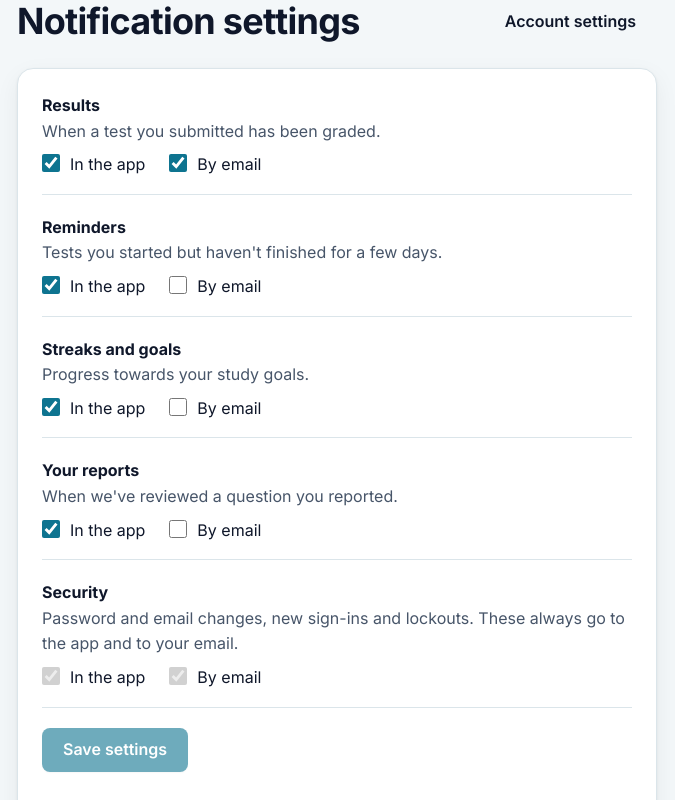
it: NotificationPreferencesForm › saves every category, keeping security on
Click the checkbox labelled "By email" below "Results": (178, 163) [169,154,187,172]
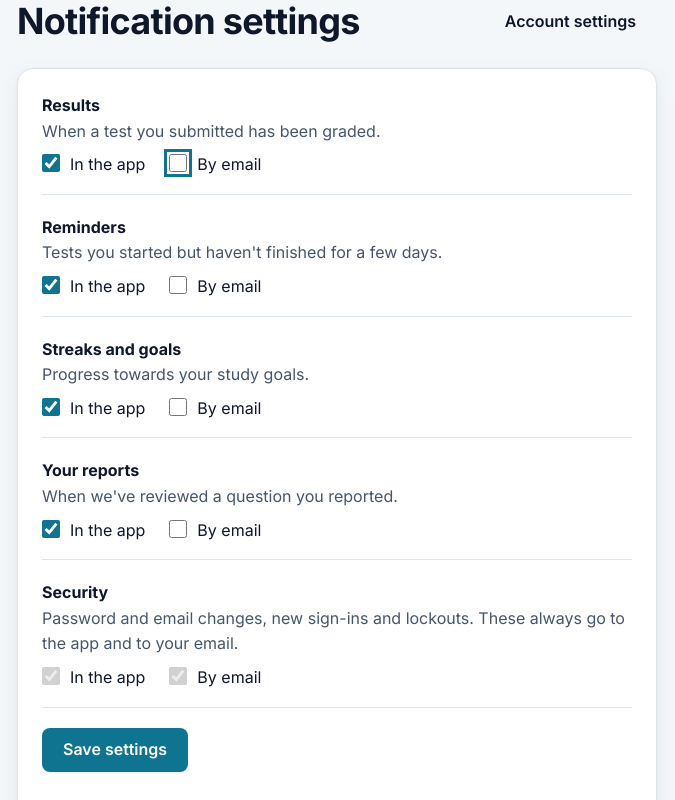
Click the checkbox labelled "By email" below "Reminders": (178, 285) [169,276,187,294]
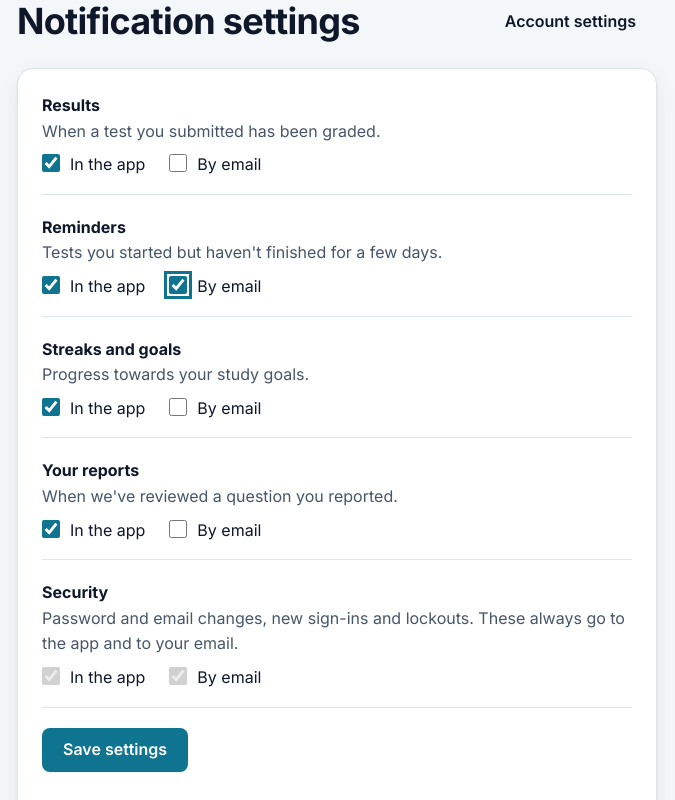
Click the button "Save settings": (115, 750) [42,728,188,772]
(page scrolled)
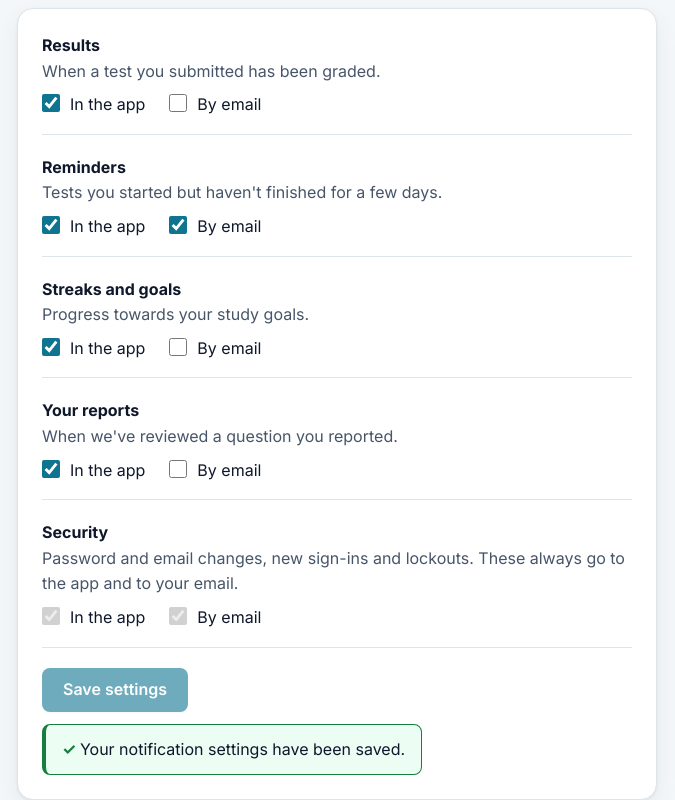
Check: the text "Your notification settings have been saved." is shown, box [42,724,422,775]
